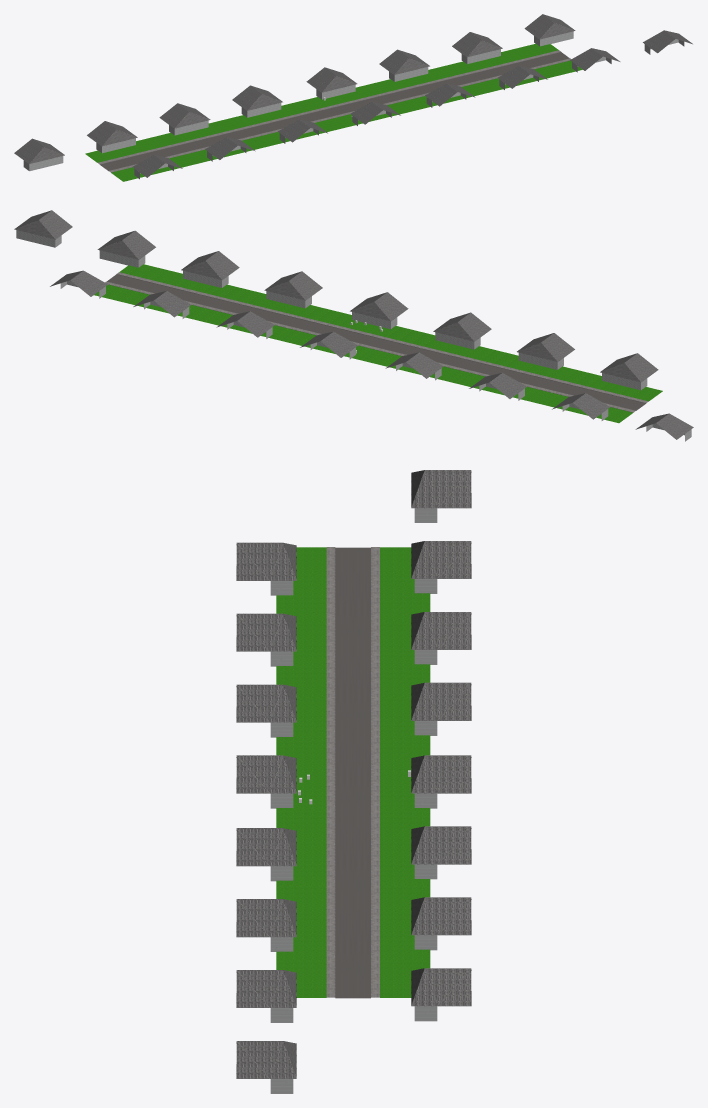
The model's file is BackgroundMockup.fbx.
3 views of the same model, one above another, from view 1: azimuth 30°, elevation 25°; view 2: azimuth 150°, elevation 25°; view 3: azimuth 270°, elevation 25° (orthographic). The views are drawn at different scales.
Parts seen in each view (by area): view 1: Plane, Plane.002, Plane.001; view 2: Plane, Plane.001, Plane.002; view 3: Plane, Plane.002, Plane.001.
Boxes of the visible parts, left/top/right/bottom form: Plane: left=85, top=43, right=582, bottom=181; Plane.002: left=14, top=14, right=575, bottom=171; Plane.001: left=132, top=30, right=692, bottom=179; Plane: left=94, top=264, right=662, bottom=423; Plane.001: left=14, top=210, right=658, bottom=390; Plane.002: left=50, top=270, right=693, bottom=441; Plane: left=276, top=547, right=430, bottom=998; Plane.002: left=411, top=470, right=471, bottom=1021; Plane.001: left=236, top=542, right=296, bottom=1093.
Bounding box in the file's own units: 48431 × 1360 × 7942.
Materials: 5 (5 with a texture image).
